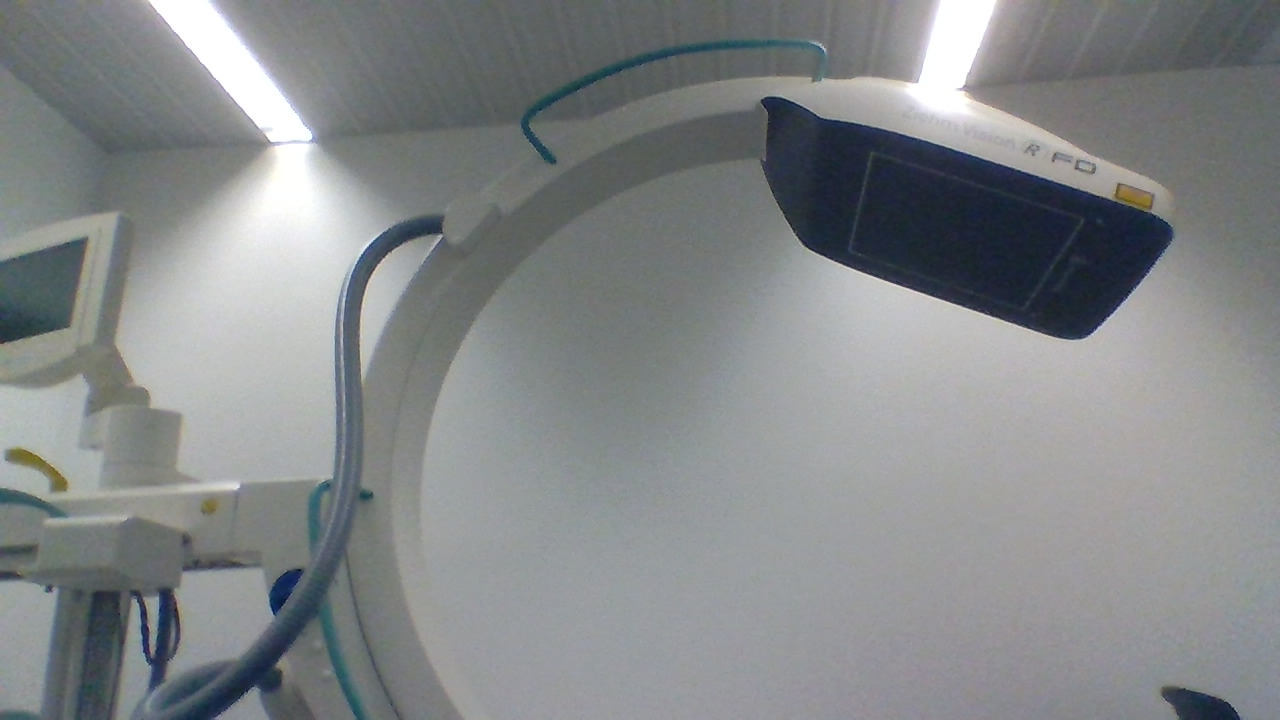carmLOCK: (267, 562, 322, 623)
carmUP: (762, 75, 1181, 341)
